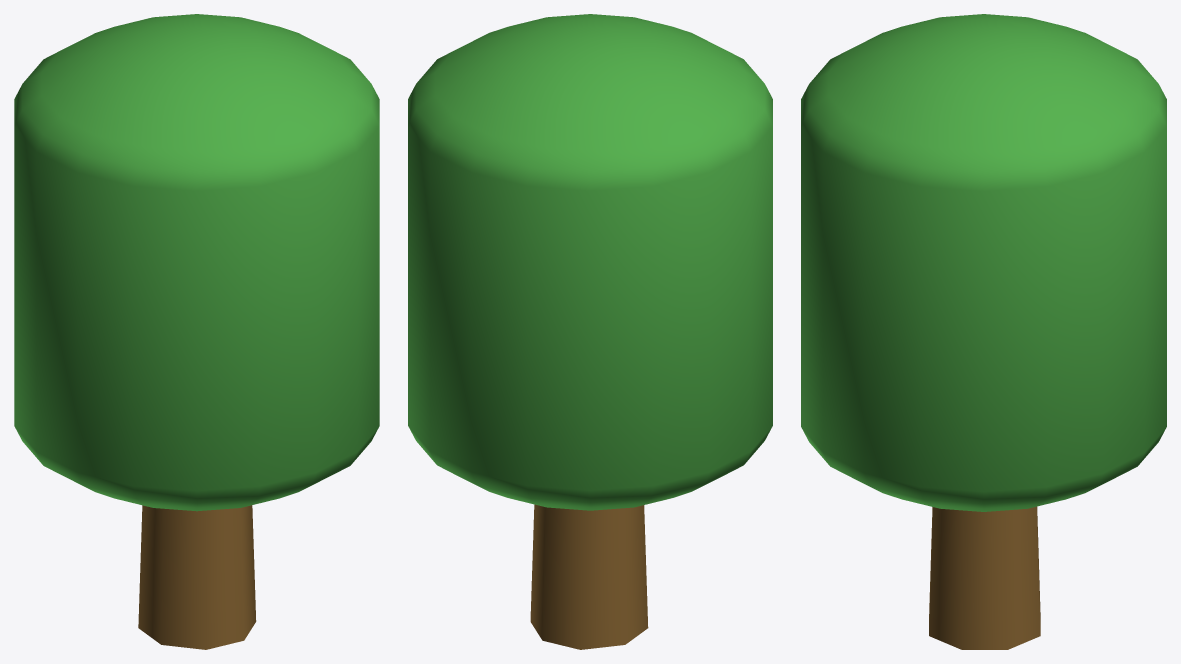
File: tree02_s03.FBX
3 views of the same model, side by side, from view 1: azimuth 30°, elevation 25°; view 2: azimuth 150°, elevation 25°; view 3: azimuth 270°, elevation 25° (orthographic).
Parts seen in each view (by area): view 1: tree02_s03; view 2: tree02_s03; view 3: tree02_s03.
Part boxes in pixels (x1,y1,x2,y2): tree02_s03: (14, 14, 379, 649); tree02_s03: (408, 14, 772, 649); tree02_s03: (801, 14, 1166, 649).
Bounding box in the file's own units: 206 × 203 × 360.
Materials: 1 (1 with a texture image).
